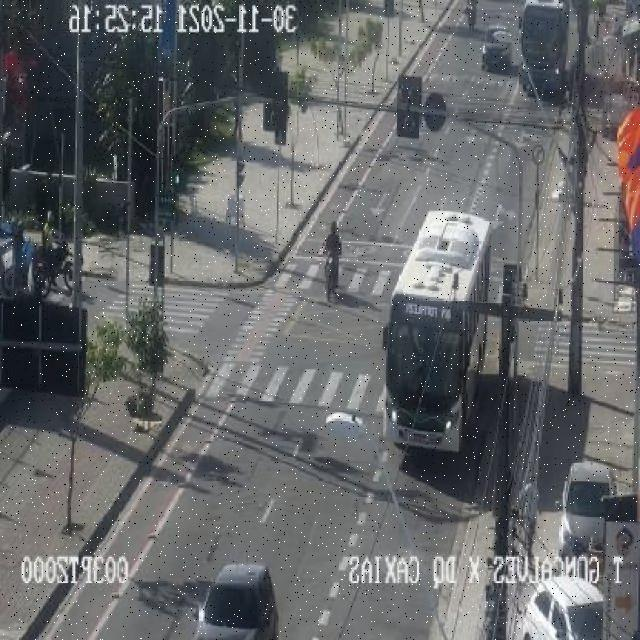Bus: (382, 204, 494, 474)
Car: (543, 459, 623, 567), (509, 566, 595, 640), (198, 551, 268, 639), (473, 25, 516, 79)
Cycle: (0, 218, 89, 301), (309, 209, 360, 299)
Truck: (517, 0, 571, 79)
